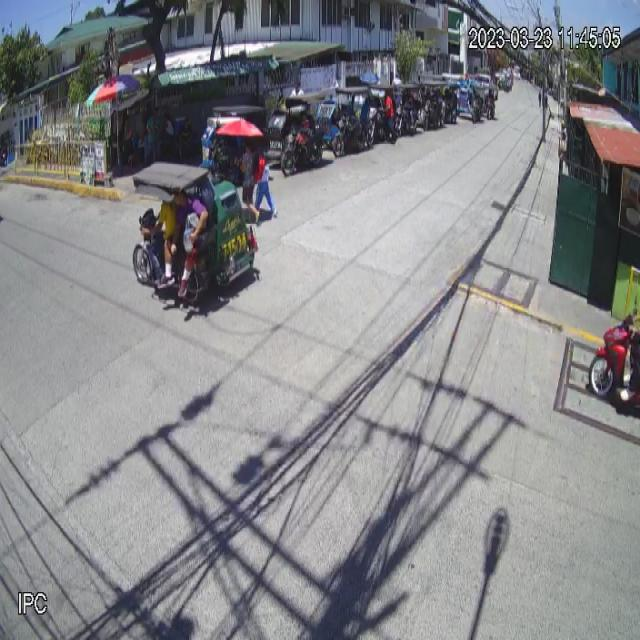Tricycle: (132, 160, 258, 308)
